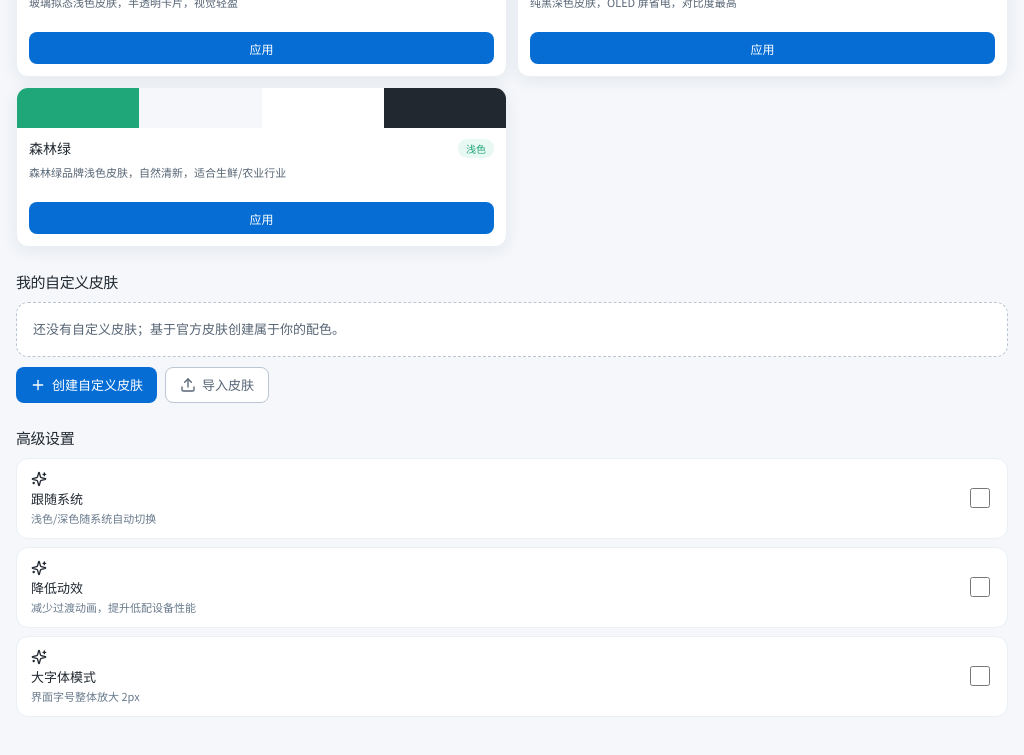
Test: SkinCenter 皮肤中心页面 › 删除自定义皮肤后从 localStorage 移除
(page scrolled)
Click the button "创建自定义皮肤". click: [86, 385]
box: [16,367,157,403]
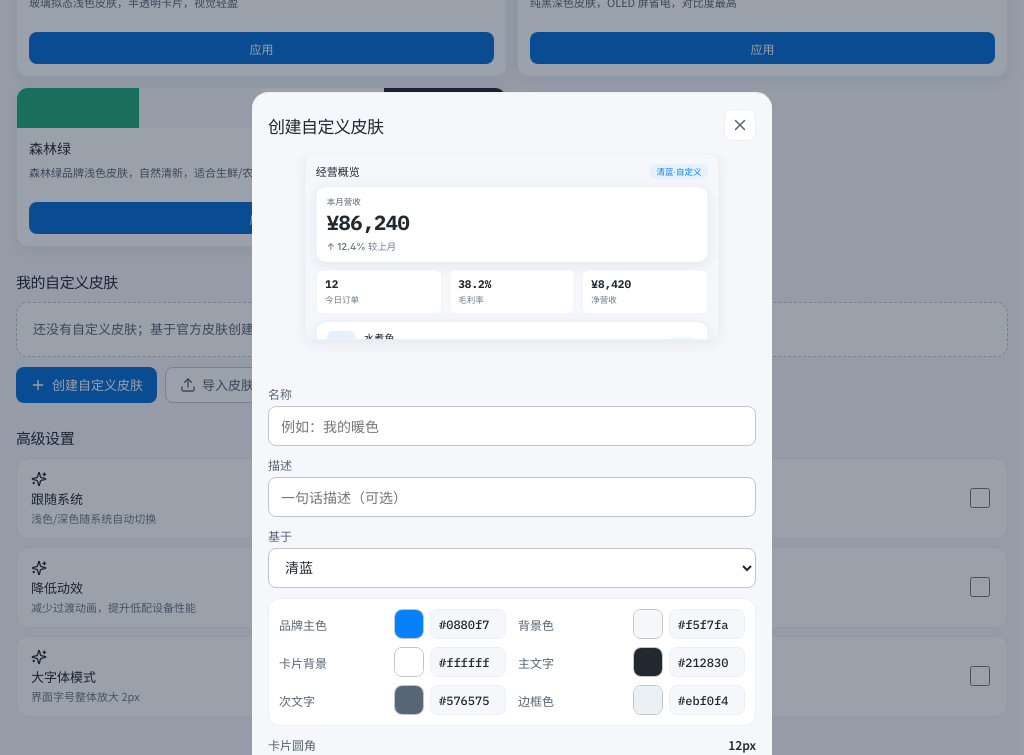
Type "待删除" into the field labelled "名称". click: [512, 426]
box: [268,406,756,446]
(page scrolled)
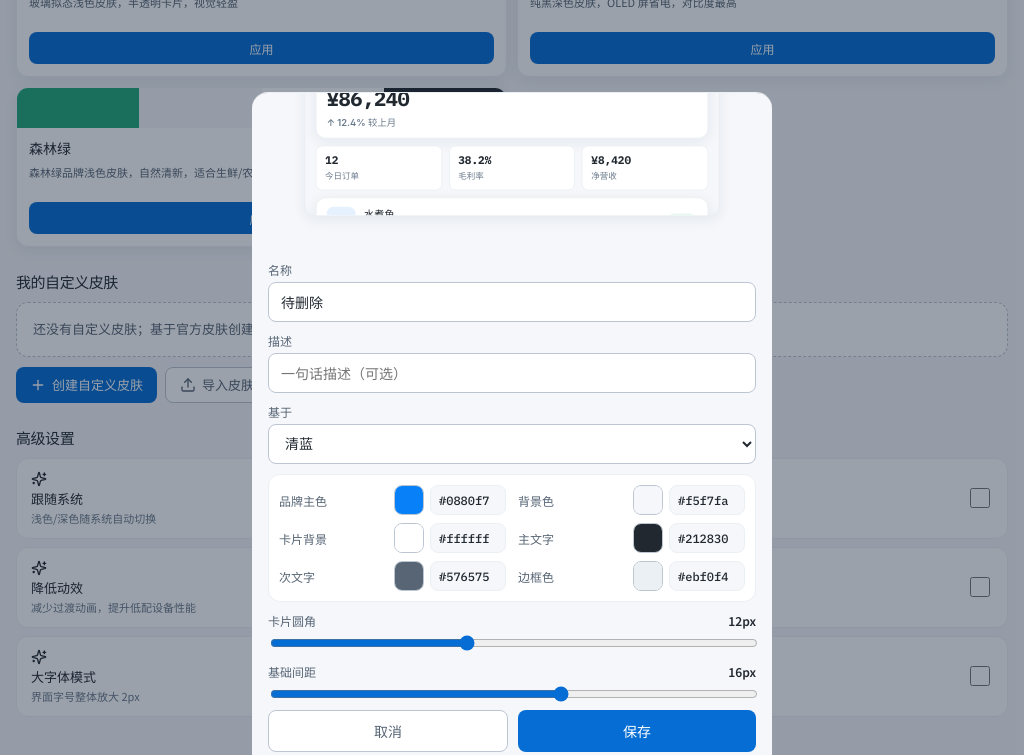
Click the button "保存". click: [637, 731]
box: [518,710,756,752]
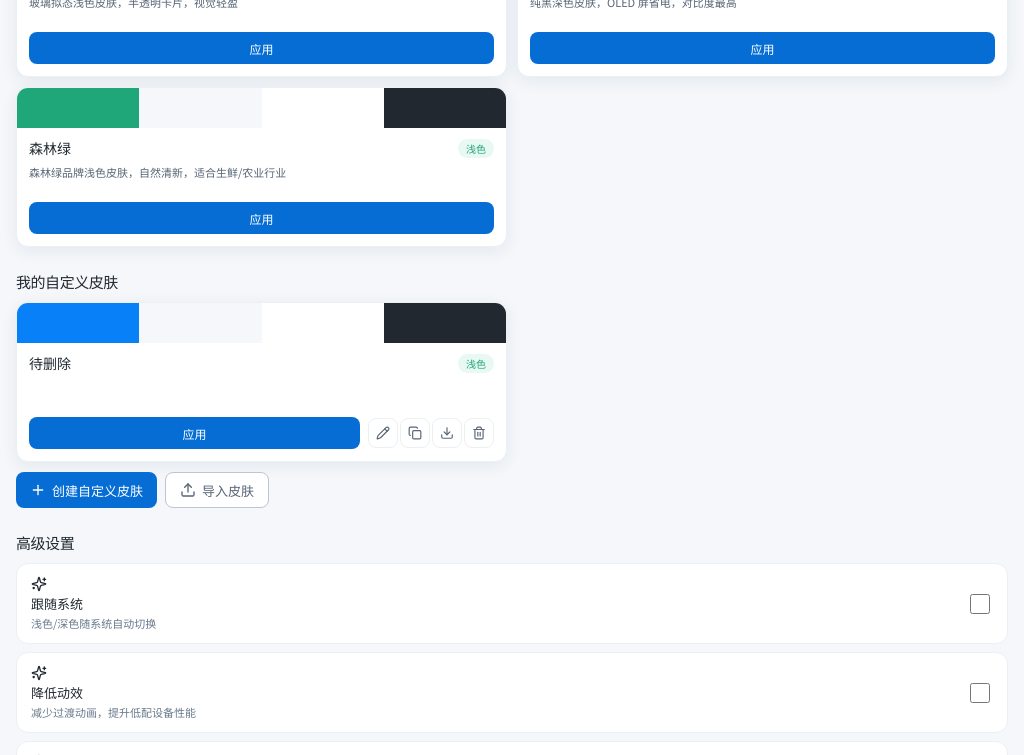
Result: the text "待删除" is shown at [29,353,71,373]
Click the button titled "删除". click: [479, 433]
box: [464,418,494,448]
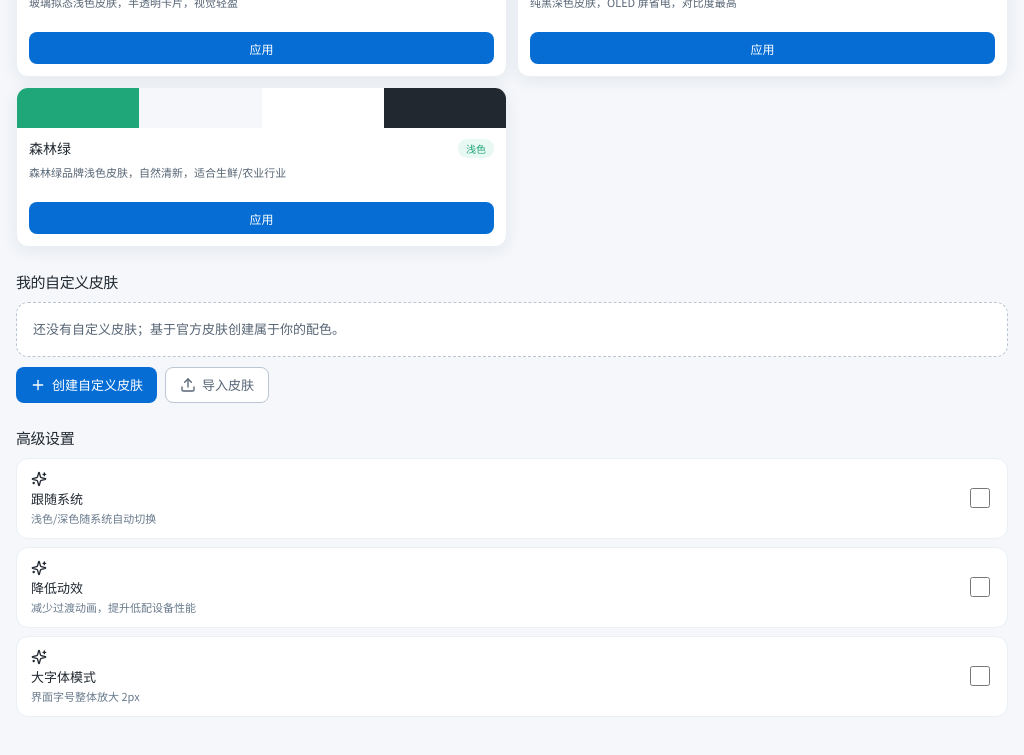
Result: the number of elements with class "skin-card" is 5
